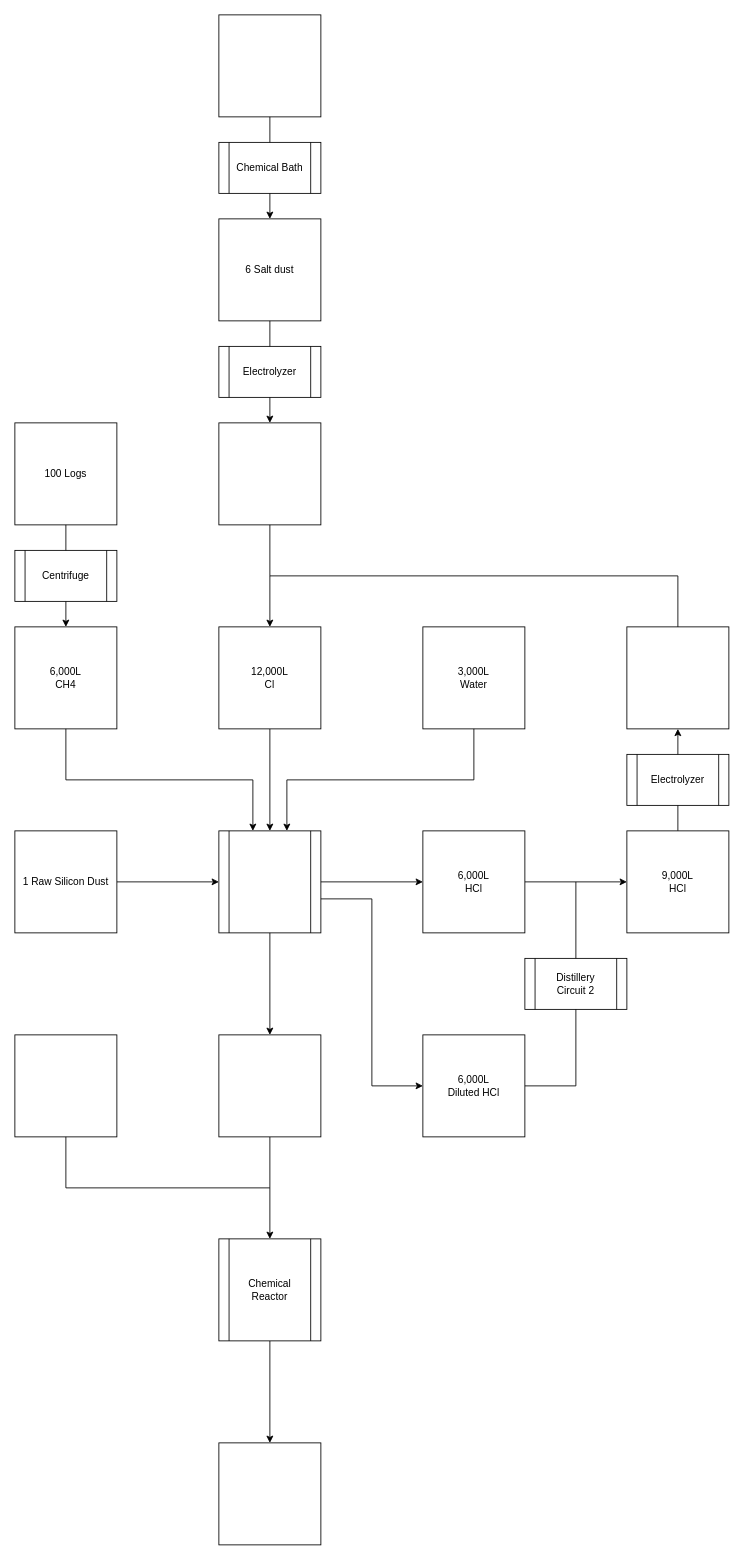
This 744x1560 diagram has some shape labels left out. The box of each missing label's shape, as (x1, y1, x2, y2) in pixels:
1 Sulfur Dust: (14, 1034, 117, 1137)
1,296L Silicone Rubber (9 Sheets): (218, 1442, 321, 1545)
3,000L Cl: (218, 422, 321, 525)
9 Polydimethylsiloxne Pulp: (218, 1034, 321, 1137)
9,000L Cl: (626, 626, 729, 729)
LCR Circuit: 24: (218, 830, 321, 933)
Salty Root From IC2 Crops: (218, 14, 321, 117)
